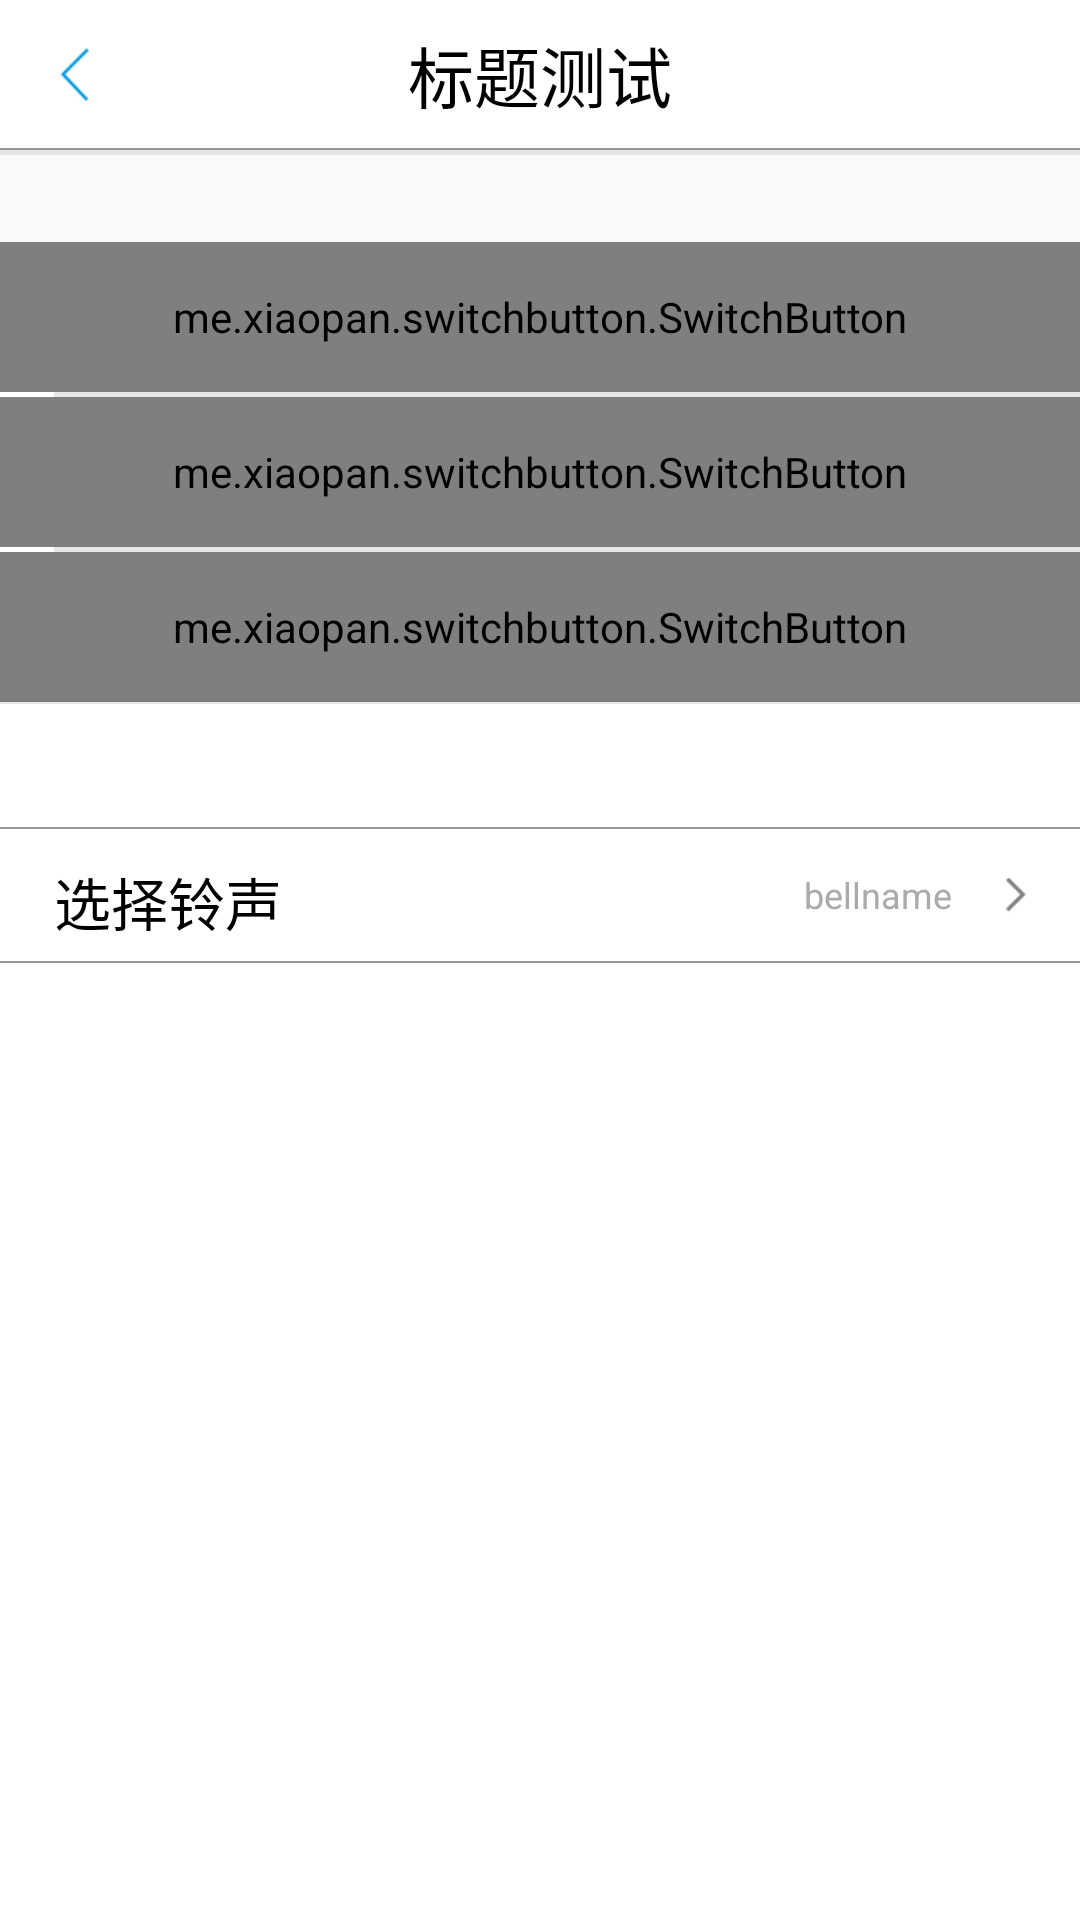

Screen size 1080px×1920px. Icon name, then its box in pixels as (x1, y1, x2, y2):
back: (60, 48, 89, 101)
